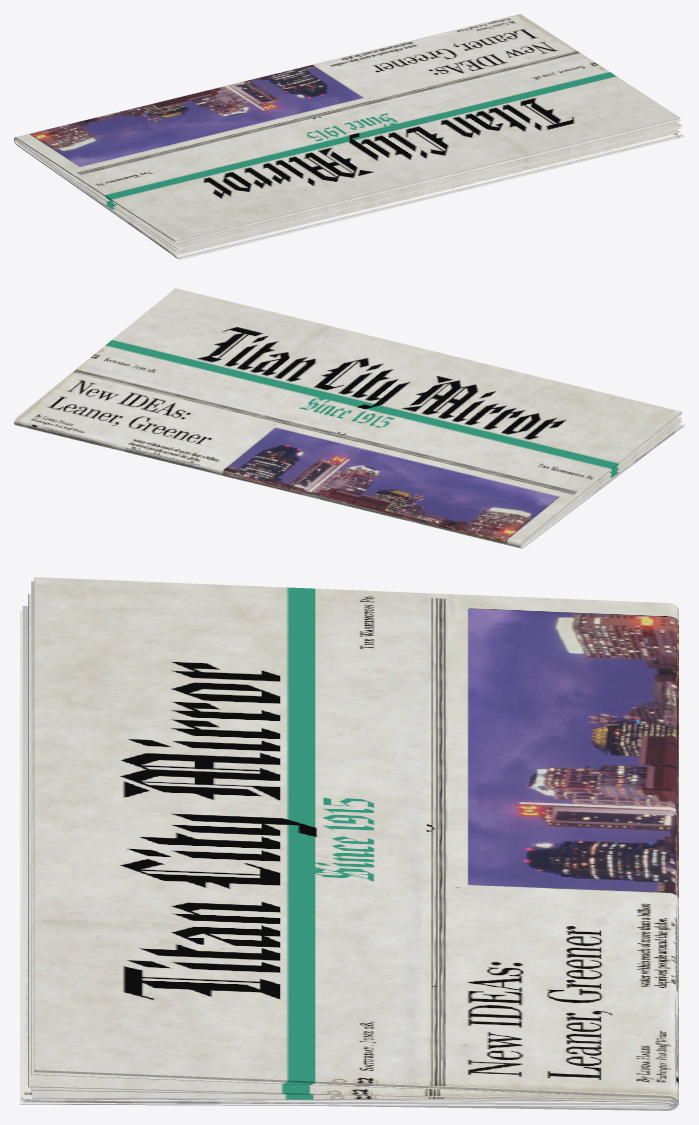
The model's file is Newspaper.fbx.
The picture shows the model from 3 angles, top to bottom: view 1: azimuth 30°, elevation 25°; view 2: azimuth 150°, elevation 25°; view 3: azimuth 270°, elevation 25°; orthographic projection. The views are drawn at different scales.
Visible parts, largest first — view 1: Root, Child 2, Child 1, Child 4, Child 3; view 2: Root, Child 4, Child 3, Child 1; view 3: Root, Child 2, Child 1, Child 4, Child 3.
Boxes of the visible parts, box(x1,y1,x2,y2) form: Root: box(14, 14, 680, 258); Child 2: box(73, 122, 684, 259); Child 1: box(14, 119, 682, 257); Child 4: box(14, 129, 682, 258); Child 3: box(15, 127, 682, 258); Root: box(14, 288, 683, 548); Child 4: box(521, 424, 684, 546); Child 3: box(522, 420, 684, 544); Child 1: box(521, 413, 684, 544); Root: box(25, 577, 678, 1110); Child 2: box(20, 593, 673, 1107); Child 1: box(22, 581, 673, 1101); Child 4: box(23, 1090, 675, 1105); Child 3: box(22, 1087, 676, 1104).
Bounding box in the file's own units: 201 × 7.73 × 113.
